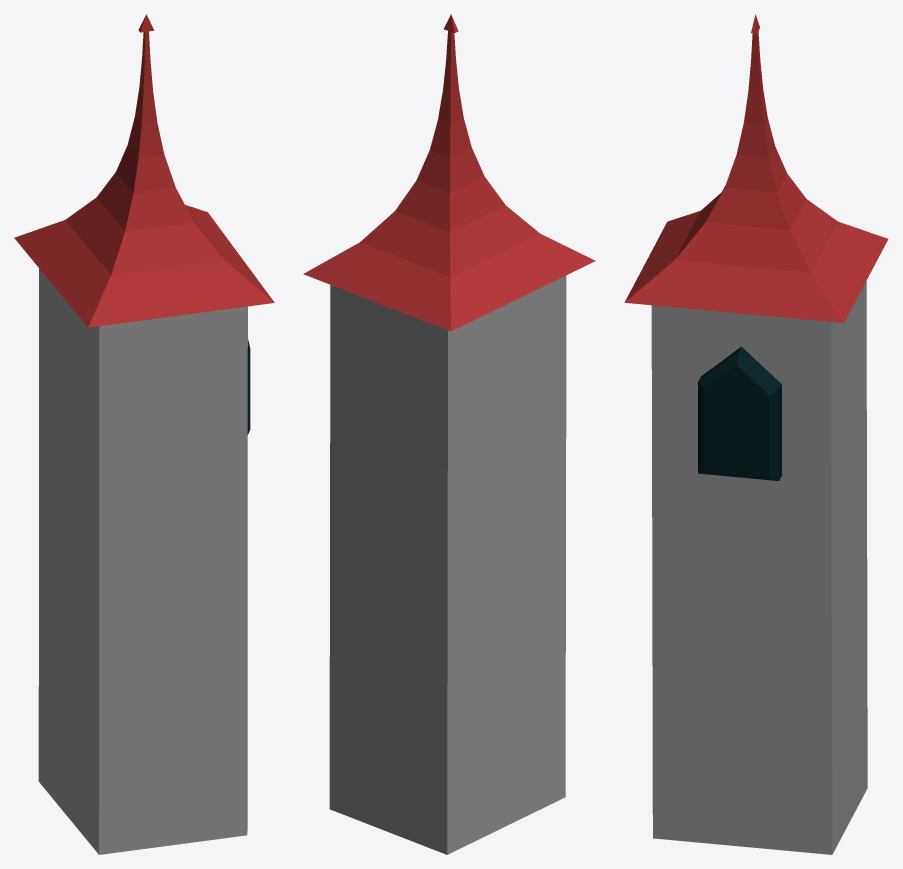
File: TOWER 3.fbx
3 views of the same model, side by side, from view 1: azimuth 30°, elevation 25°; view 2: azimuth 150°, elevation 25°; view 3: azimuth 270°, elevation 25° (orthographic).
Parts seen in each view (by area): view 1: TOWER_3; view 2: TOWER_3; view 3: TOWER_3.
Part boxes in pixels (x1,y1,x2,y2): TOWER_3: (14,14,274,854); TOWER_3: (303,14,595,854); TOWER_3: (624,14,888,854).
Bounding box in the file's own units: 228 × 834 × 249.
Materials: 1 (1 with a texture image).
